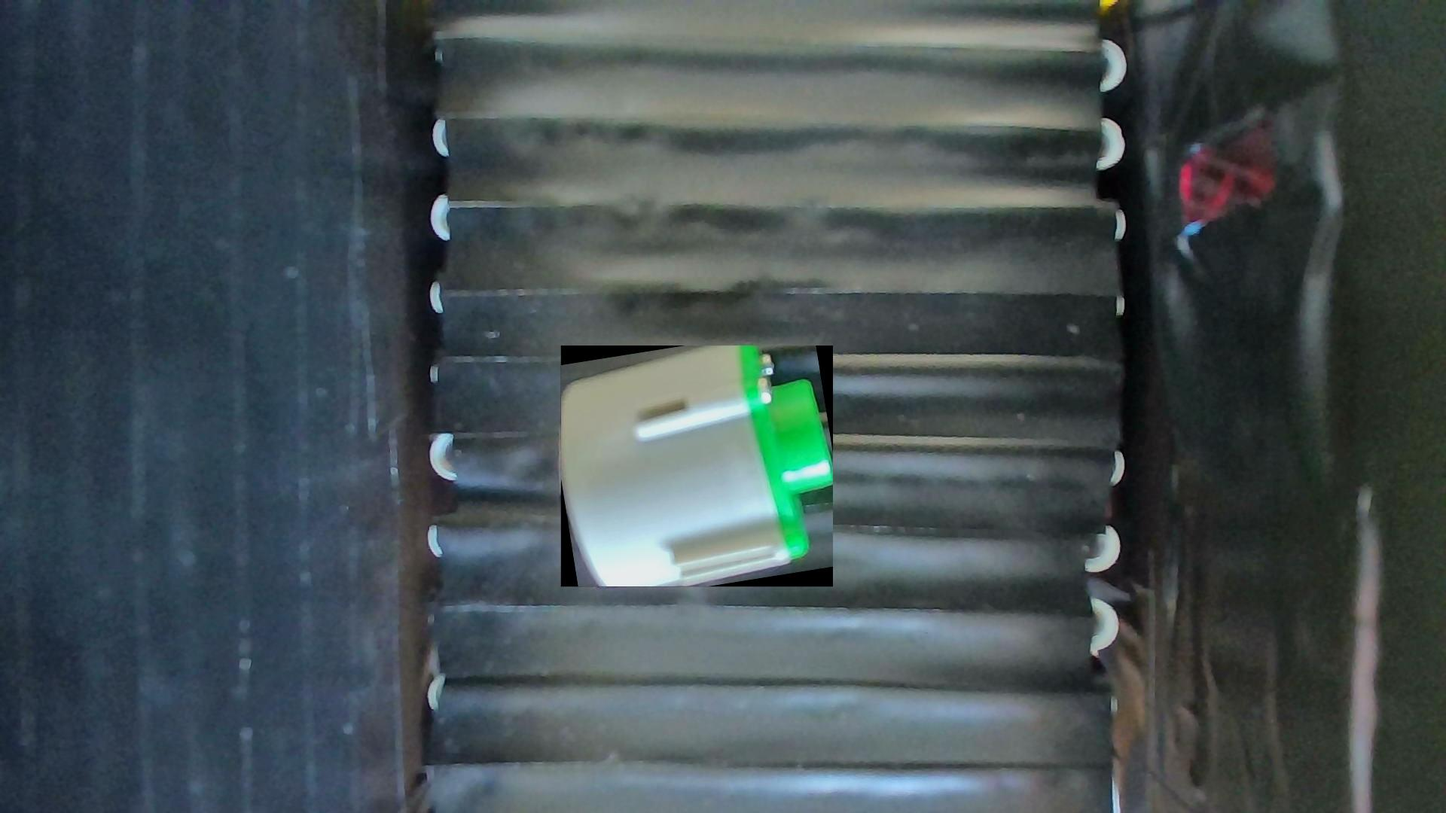cartridge: (560, 346, 832, 588)
